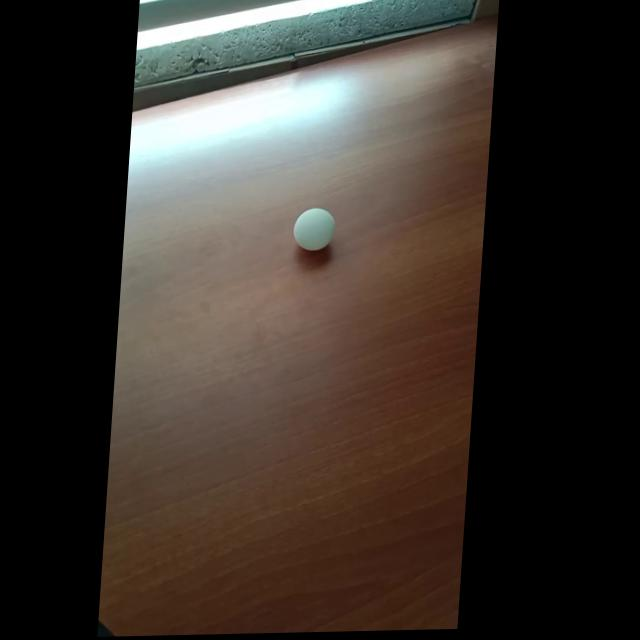white ball: (291, 206, 336, 251)
